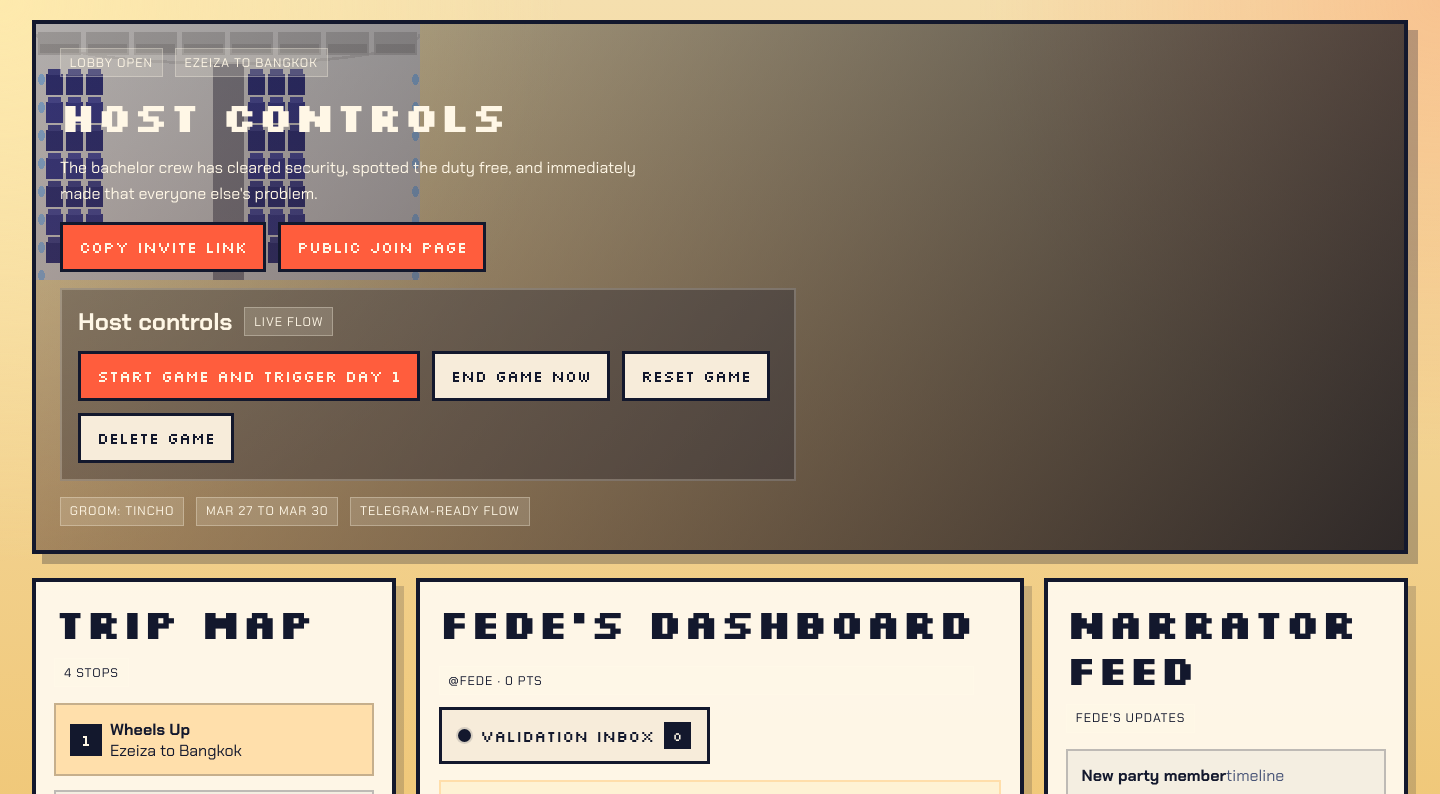
Test case: GameClient host controls › copies the public invite link
Click the button "Copy invite link" at (163, 247), box [60,222,266,272]
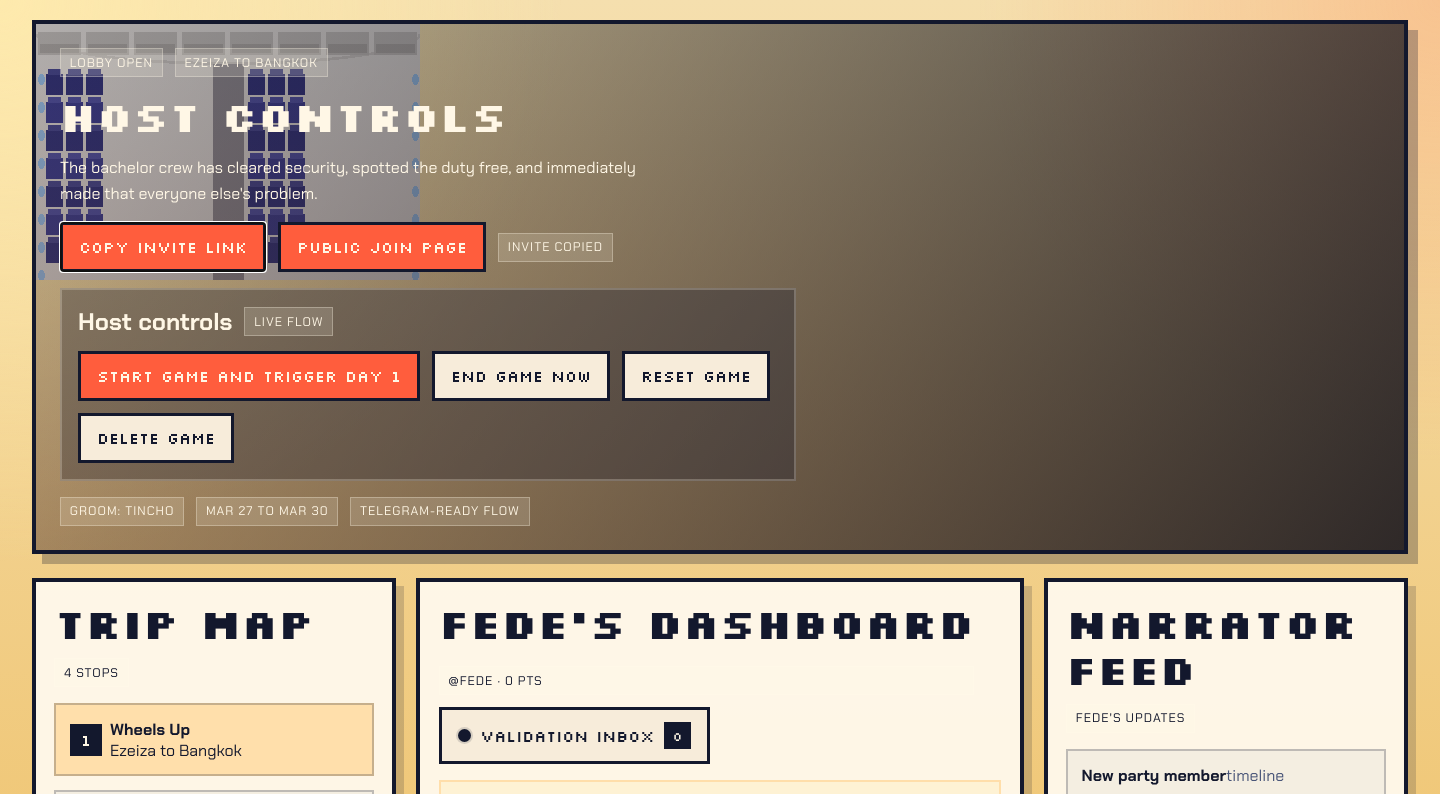
expect the text "Invite copied" is shown: met, box [498,232,613,262]
